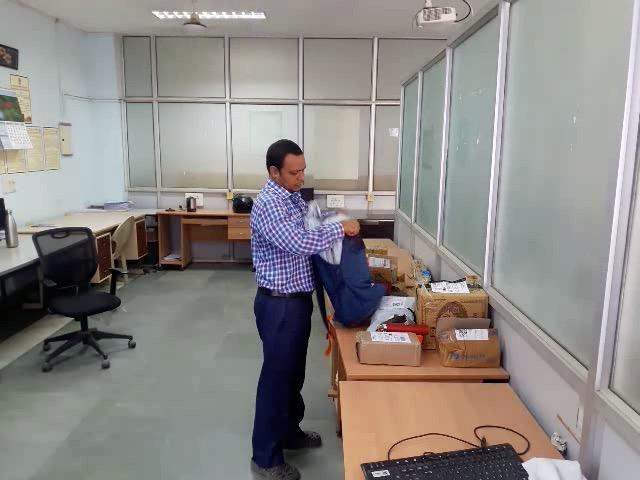shoplifting: (230, 188, 423, 315)
